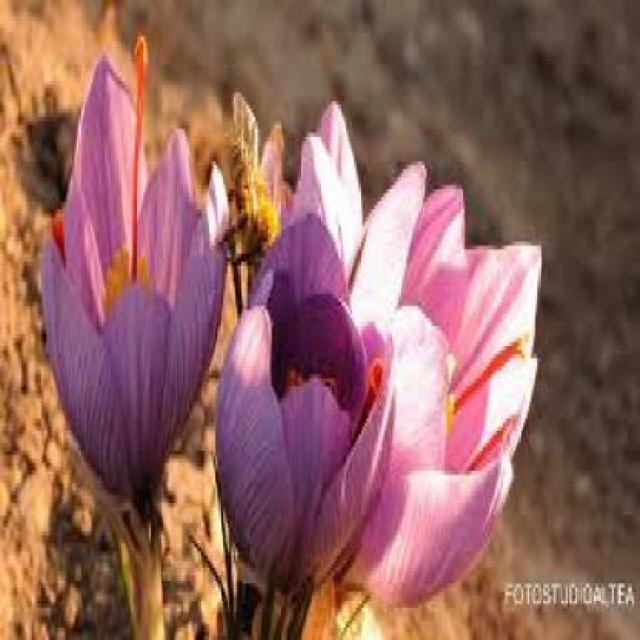Flower: (322, 180, 544, 608), (38, 56, 230, 530), (214, 214, 400, 612)
stigma: (125, 31, 154, 284), (453, 329, 526, 413)
